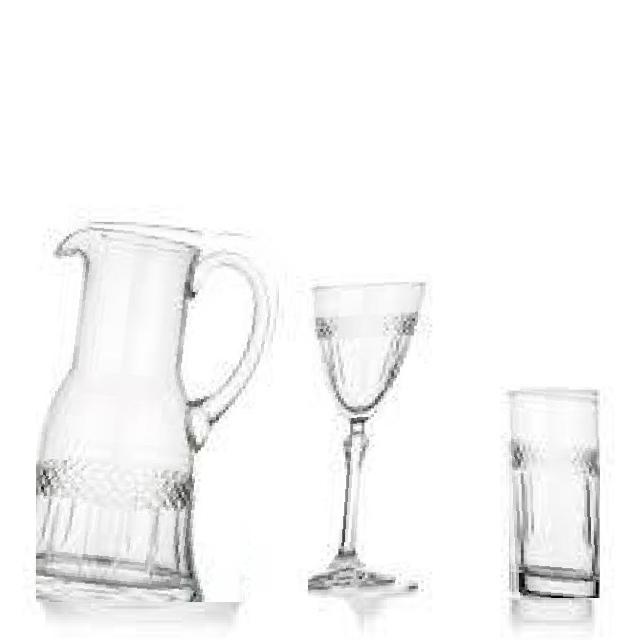Glass: (36, 217, 284, 602), (308, 282, 432, 600), (504, 388, 600, 598)
